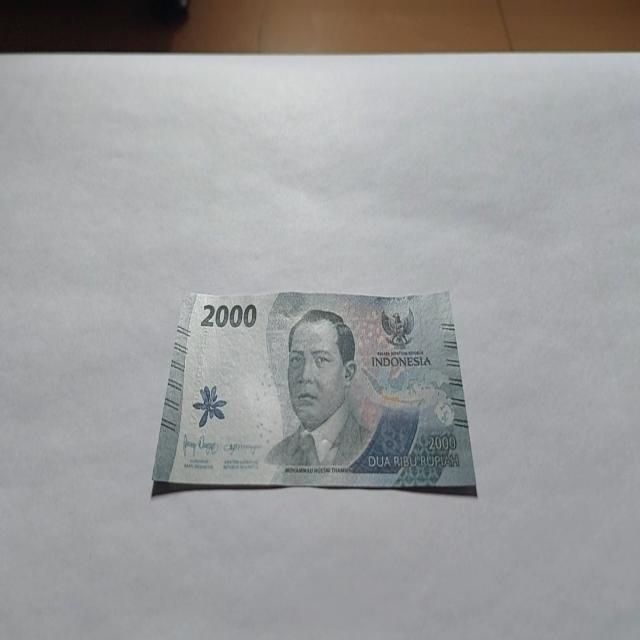dua ribu rupiah: (151, 287, 477, 496), (264, 306, 374, 470)
